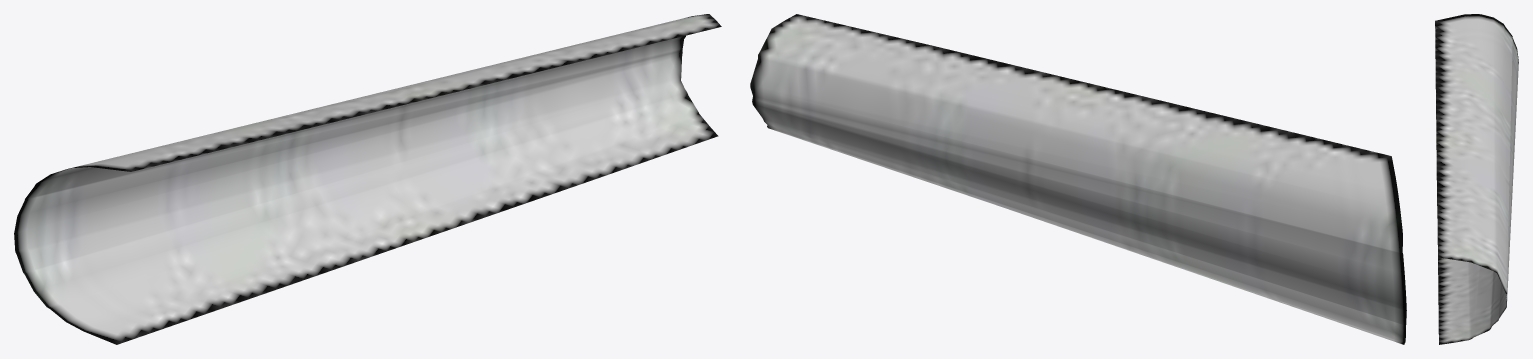
The model's file is rightInnerSlat.dae.
3 renders of one model, left to right at view 1: azimuth 30°, elevation 25°; view 2: azimuth 150°, elevation 25°; view 3: azimuth 270°, elevation 25°, orthographic. The views are drawn at different scales.
Parts seen in each view (by area): view 1: group_0; view 2: group_0; view 3: group_0.
Boxes of the visible parts, x1,y1,x2,y2 form: group_0: [14, 14, 721, 344]; group_0: [750, 14, 1406, 344]; group_0: [1435, 14, 1518, 344].
Bounding box in the file's own units: 133 × 17.85 × 32.66.
Materials: 1 (1 with a texture image).
